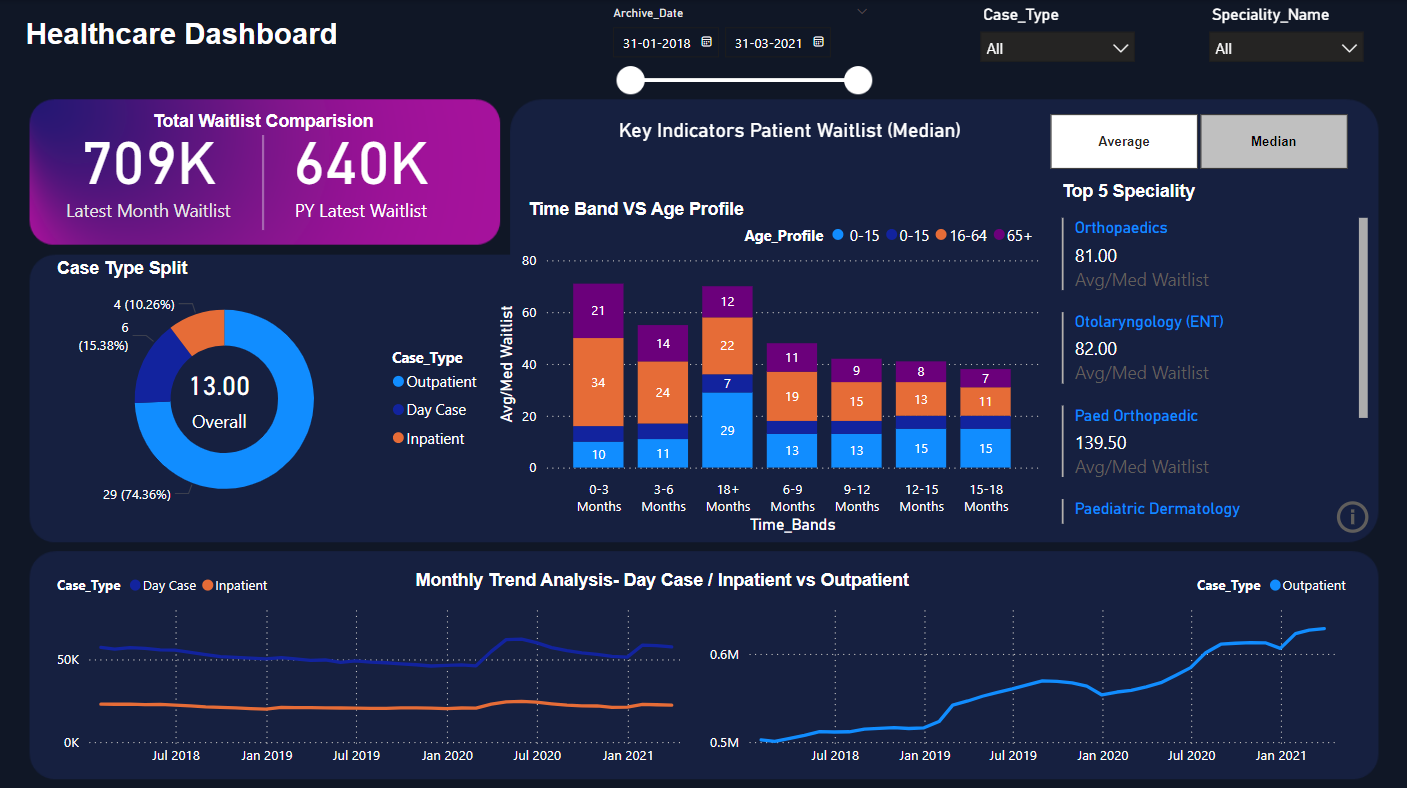

The page's visual inventory and layout, read from the dashboard file:
{"tool":"powerbi","page":{"name":"Summary","canvas":[1280,720],"ordinal":0},"visuals":[{"type":"card","fields":{"Values":["All_Data.Latest Month Waitlist"]},"box":[48,96,176,112],"z":0},{"type":"card","fields":{"Values":["All_Data.PY Latest Waitlist"]},"box":[240,96,176,112],"z":1000},{"type":"slicer","fields":{"Values":["Calculation Method.Calc Method"]},"box":[928,96,320,64],"z":2000},{"type":"donutChart","fields":{"Category":["All_Data.Case_Type"],"Y":["All_Data.Avg/Med Waitlist"]},"box":[47.5,245,400,235],"z":3000},{"type":"columnChart","fields":{"Y":["All_Data.Avg/Med Waitlist"],"Category":["All_Data.Time_Bands"],"Series":["All_Data.Age_Profile"]},"box":[447.5,192.5,500,296.2],"z":4000},{"type":"multiRowCard","fields":{"Values":["All_Data.Speciality_Name","All_Data.Avg/Med Waitlist"]},"box":[960,192.5,287.5,287.5],"z":5000},{"type":"card","fields":{"Values":["All_Data.NoDataLeft"]},"box":[0,541.2,571.2,155],"z":5500},{"type":"lineChart","fields":{"Category":["All_Data.Archive_Date"],"Y":["Sum(All_Data.Total)"],"Series":["All_Data.Case_Type"]},"box":[48,512,592,192],"z":6000},{"type":"card","fields":{"Values":["All_Data.NoDataRight"]},"box":[663.8,541.2,571.2,155],"z":6500},{"type":"lineChart","fields":{"Category":["All_Data.Archive_Date"],"Y":["Sum(All_Data.Total)"],"Series":["All_Data.Case_Type"]},"box":[640,512,592,192],"z":7000},{"type":"slicer","fields":{"Values":["All_Data.Archive_Date"]},"box":[544,0,256,96],"z":8000},{"type":"slicer","fields":{"Values":["All_Data.Case_Type"]},"box":[880,0,160,80],"z":9000},{"type":"slicer","fields":{"Values":["All_Data.Speciality_Name"]},"box":[1088,0,160,80],"z":10000},{"type":"textbox","box":[16,0,512,80],"z":11000},{"type":"card","fields":{"Values":["All_Data.Avg/Med Waitlist"]},"box":[144,304,112,112],"z":12000},{"type":"shape","box":[90,122.5,300,86.2],"z":13000},{"type":"textbox","box":[90,96.2,300,31.2],"z":14000},{"type":"textbox","box":[47.5,228.8,352.5,32.5],"z":15000},{"type":"textbox","box":[475,176.2,218.8,32.5],"z":16000},{"type":"textbox","box":[960,160,156.2,32.5],"z":17000},{"type":"textbox","box":[100,512.5,1003.8,38.8],"z":18000},{"type":"card","fields":{"Values":["All_Data.Dynamic Title"]},"box":[483.8,83.8,466.2,68.8],"z":19000},{"type":"actionButton","box":[1208.8,448.8,38.8,40],"z":22000}]}

Visuals, with their boxes in screenshot pixels (x1, y1, x2, y2), scaled from the page's 1280x720 canvas onto the 1407x788 screenshot:
card - All_Data.Latest Month Waitlist: BBox(53, 105, 246, 228)
card - All_Data.PY Latest Waitlist: BBox(264, 105, 457, 228)
slicer - Calculation Method.Calc Method: BBox(1020, 105, 1372, 175)
donutChart - All_Data.Case_Type x All_Data.Avg/Med Waitlist: BBox(52, 268, 492, 525)
columnChart - All_Data.Avg/Med Waitlist x All_Data.Time_Bands: BBox(492, 211, 1042, 535)
multiRowCard - All_Data.Speciality_Name x All_Data.Avg/Med Waitlist: BBox(1055, 211, 1371, 525)
card - All_Data.NoDataLeft: BBox(0, 592, 628, 762)
lineChart - All_Data.Archive_Date x Sum(All_Data.Total): BBox(53, 560, 704, 770)
card - All_Data.NoDataRight: BBox(730, 592, 1358, 762)
lineChart - All_Data.Archive_Date x Sum(All_Data.Total): BBox(704, 560, 1354, 770)
slicer - All_Data.Archive_Date: BBox(598, 0, 879, 105)
slicer - All_Data.Case_Type: BBox(967, 0, 1143, 88)
slicer - All_Data.Speciality_Name: BBox(1196, 0, 1372, 88)
textbox: BBox(18, 0, 580, 88)
card - All_Data.Avg/Med Waitlist: BBox(158, 333, 281, 455)
shape: BBox(99, 134, 429, 228)
textbox: BBox(99, 105, 429, 139)
textbox: BBox(52, 250, 440, 286)
textbox: BBox(522, 193, 763, 228)
textbox: BBox(1055, 175, 1227, 211)
textbox: BBox(110, 561, 1213, 603)
card - All_Data.Dynamic Title: BBox(532, 92, 1044, 167)
actionButton: BBox(1329, 491, 1371, 535)
